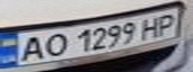1: (72, 26, 93, 54)
2: (90, 24, 112, 52)
9: (118, 19, 142, 44), (106, 21, 127, 48)
A: (12, 34, 51, 64)
H: (136, 14, 166, 39)
O: (36, 30, 72, 59)
P: (151, 11, 181, 38)
